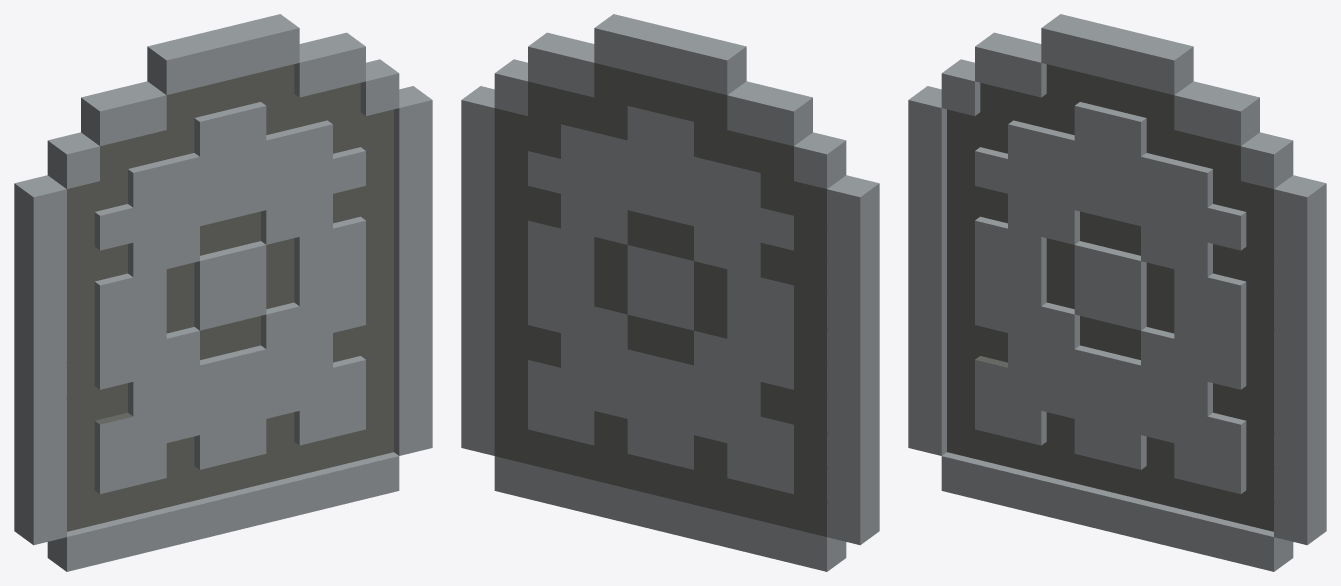
Rendered from tablet.glb.
3 renders of one model, left to right at view 1: azimuth 30°, elevation 25°; view 2: azimuth 150°, elevation 25°; view 3: azimuth 330°, elevation 25°, orthographic.
Visible parts, largest first — view 1: Grid; view 2: Grid; view 3: Grid.
Part boxes in pixels (x1,y1,x2,y2): Grid: [14, 14, 432, 571]; Grid: [461, 14, 879, 571]; Grid: [908, 14, 1326, 571].
Bounding box in the file's own units: 1.5 × 1.75 × 0.125.
1 material, 1 textured.
